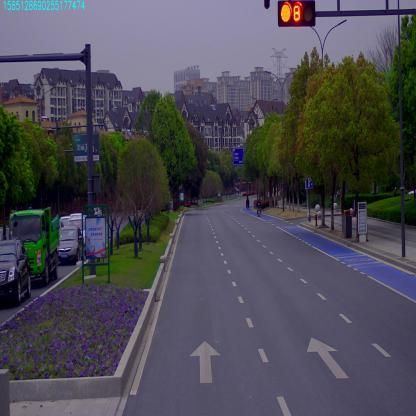traffic-light: (278, 1, 318, 26)
